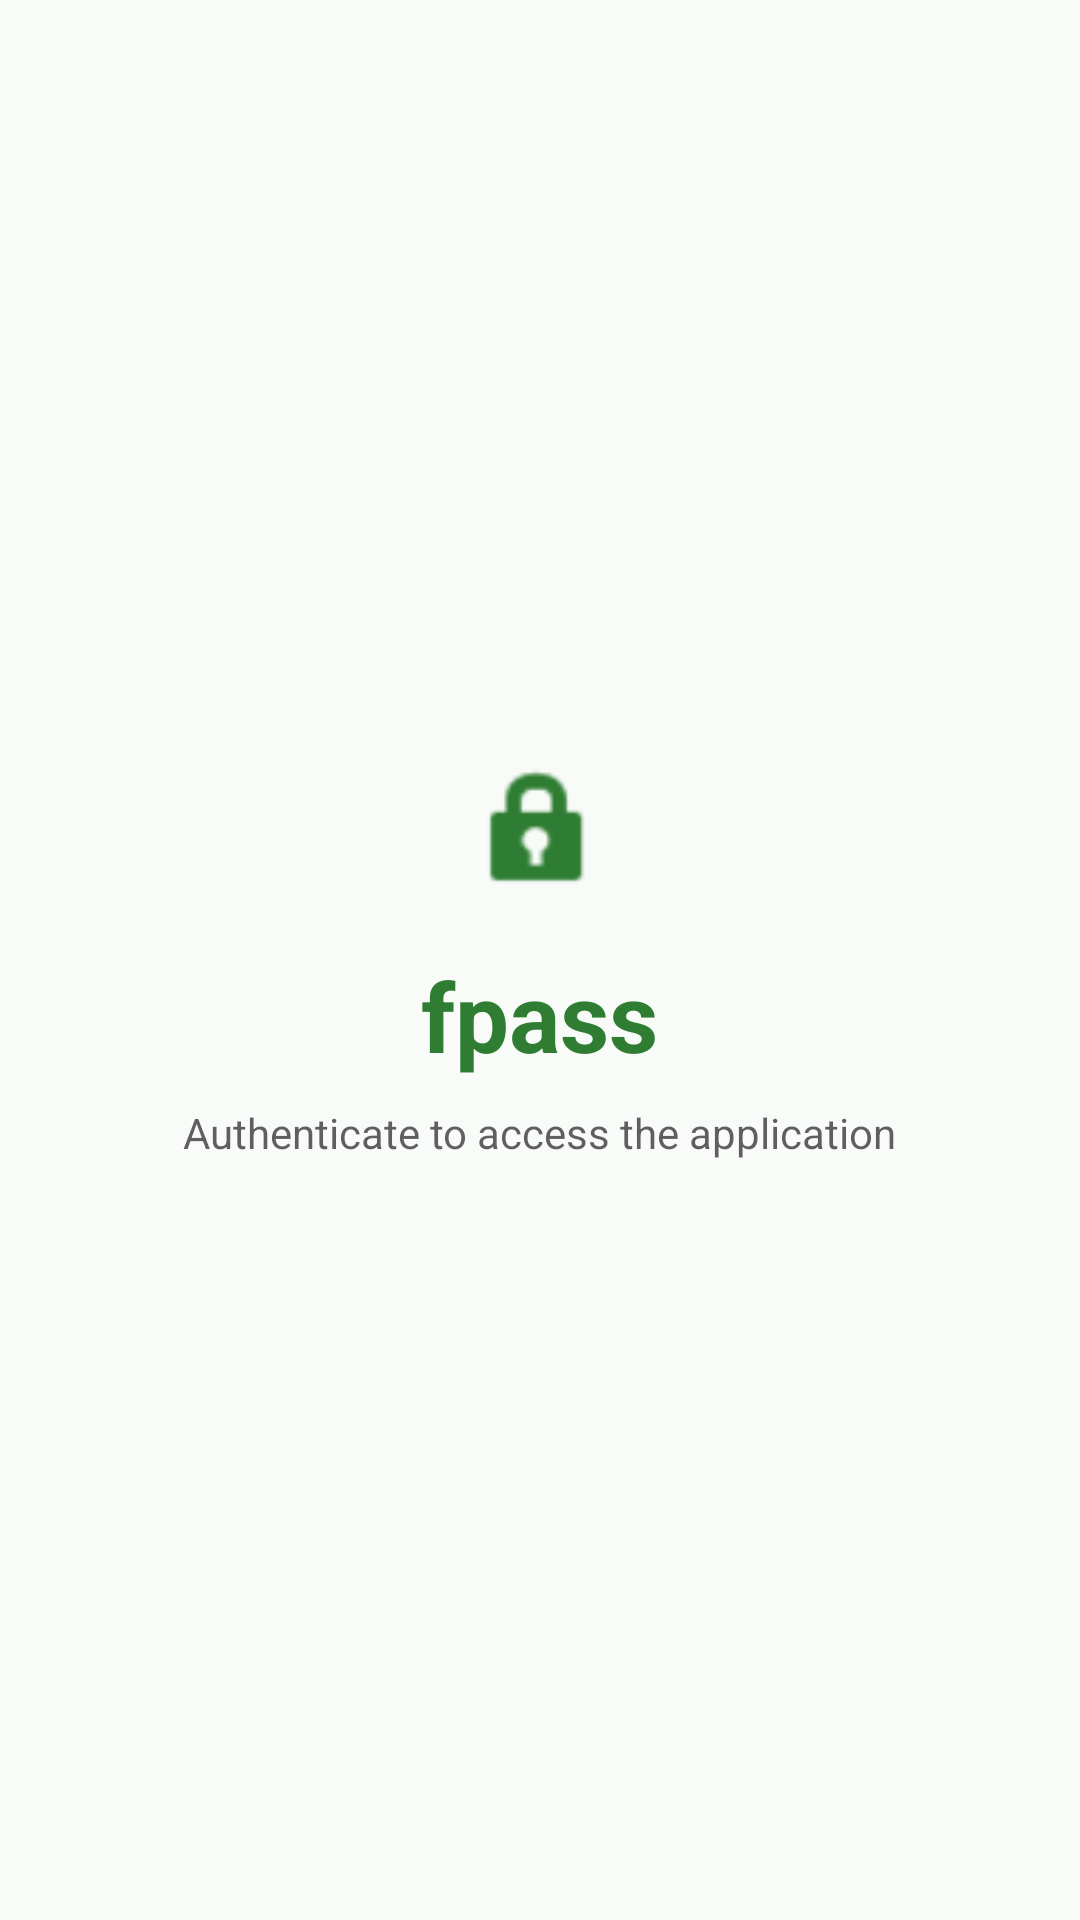

Named icons in this screenshot (1080×1920) and their centers, (x,y):
lock idle: (536,826)
